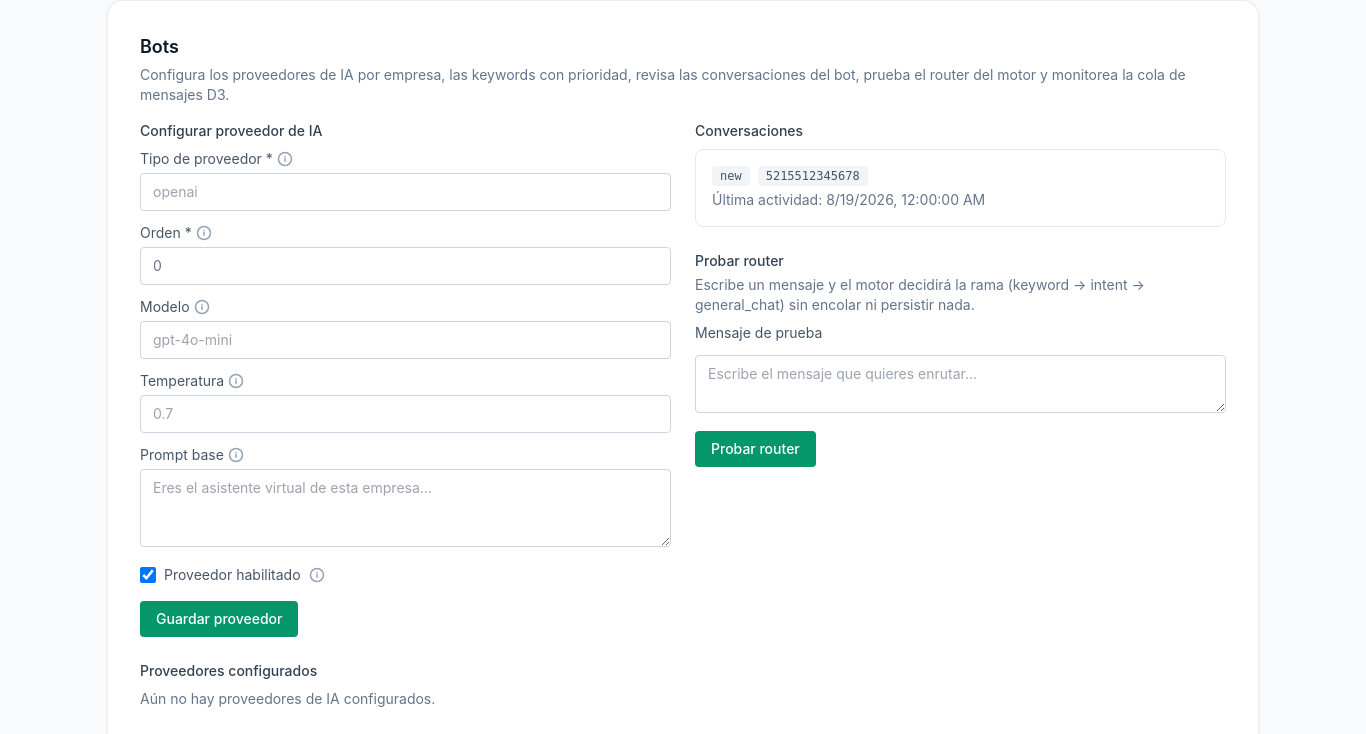
Test: BotsSection › selecciona una conversación y carga sus mensajes
What coordinates should you click on to do the following:
click the button "new 5215512345678 Última actividad: 8/19/2026, 12:00:00 AM"
I would click on:
 (960, 188)
Its box is [712,166,1209,210].
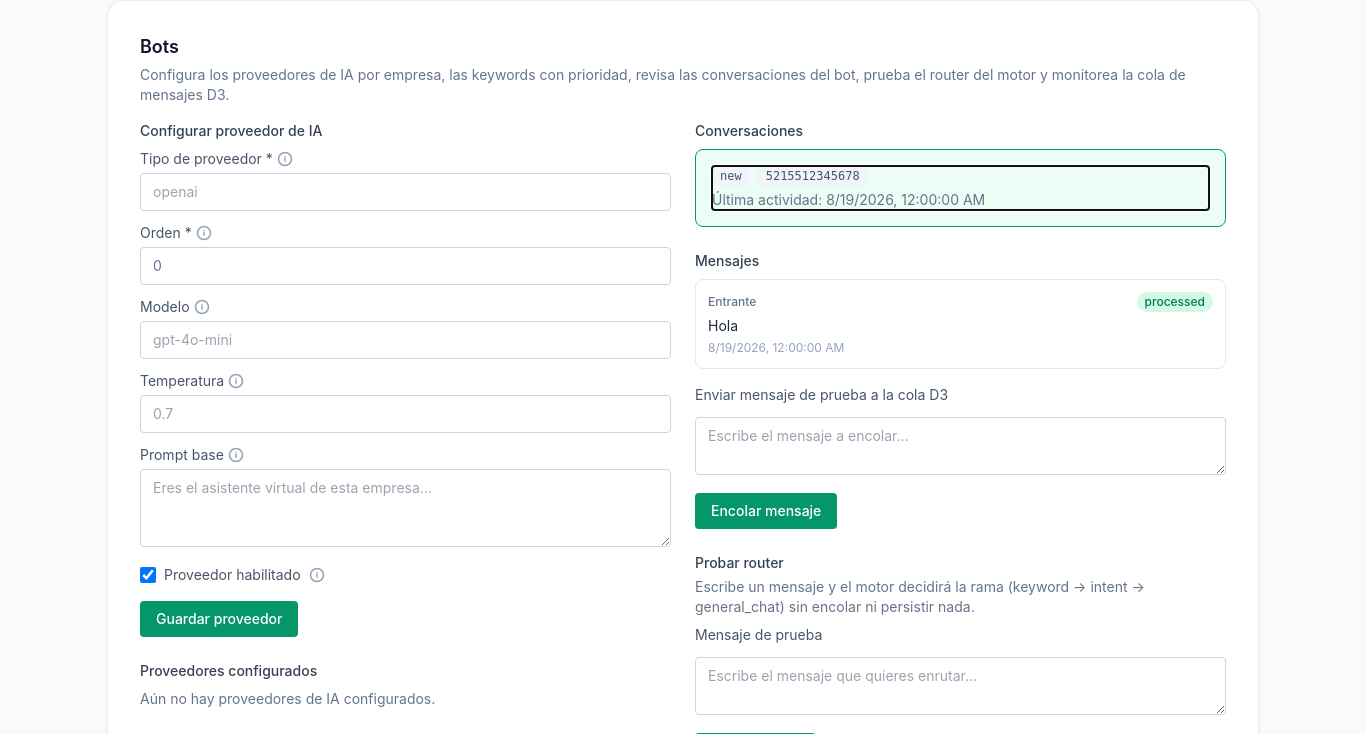
Result: the text "Entrante" is shown at [708,294,756,310]
Result: the text "Hola" is shown at [708,317,738,334]
Result: the form "Enviar mensaje de prueba" is shown at [695,385,1226,529]
